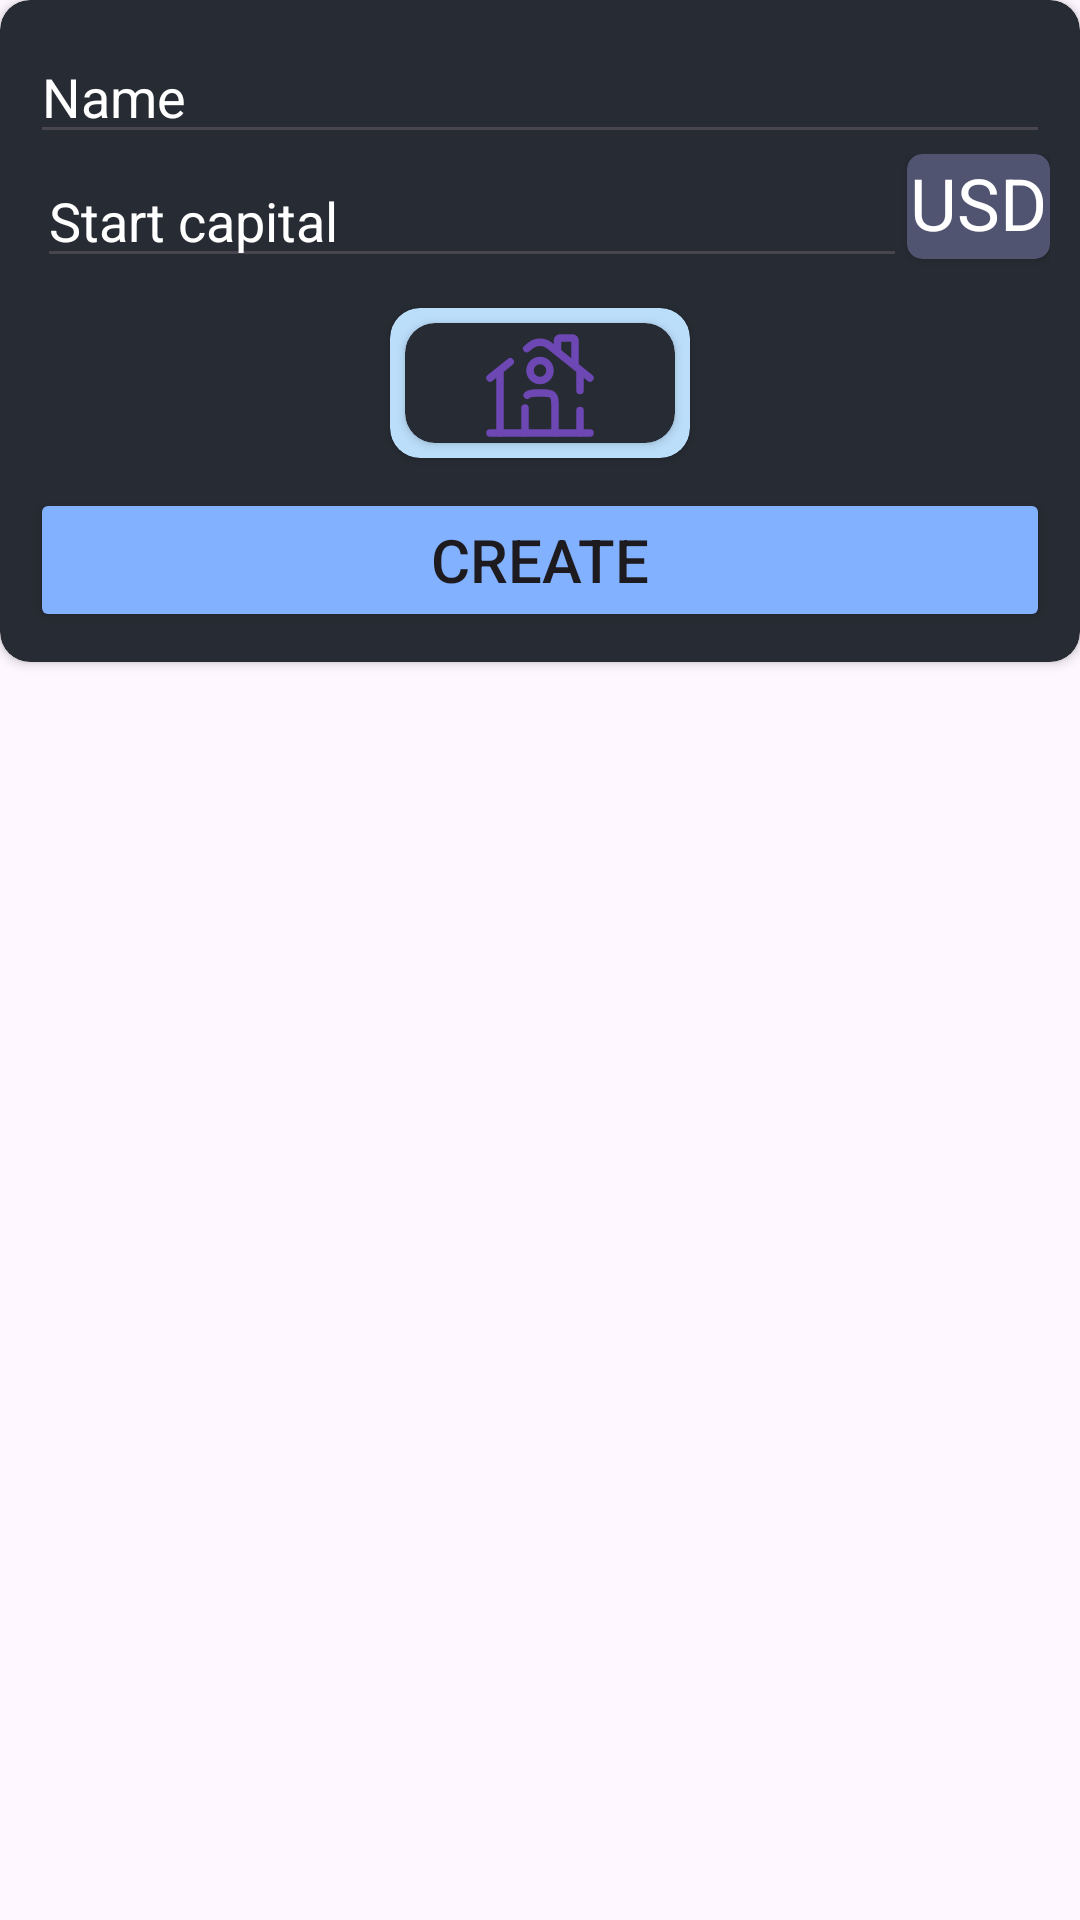

Icon click points for this 1080px x 1920px phone screenshot, format point (x, y):
home: point (540, 385)
